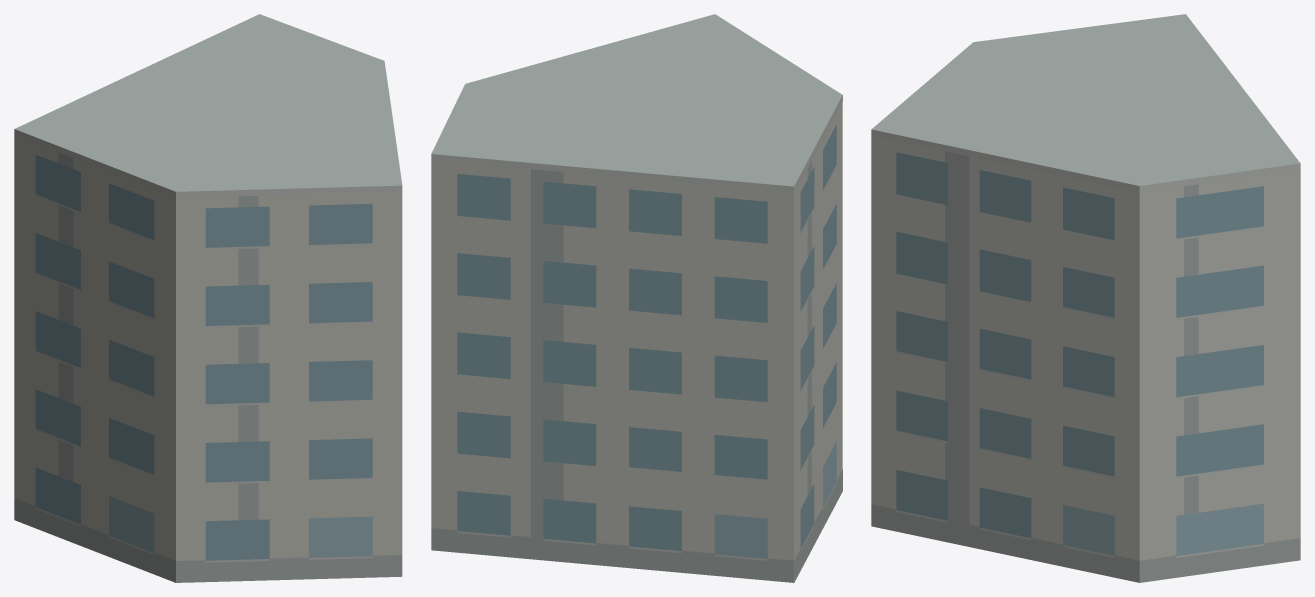
Rendered from residential-5a6bbb25-d028-49de-846f-203790a07bf5.glb.
3 views of the same model, side by side, from view 1: azimuth 30°, elevation 25°; view 2: azimuth 150°, elevation 25°; view 3: azimuth 270°, elevation 25° (orthographic).
Parts seen in each view (by area): view 1: residential-5a6bbb25-d028-49de-846f-203790a07bf5.tmp; view 2: residential-5a6bbb25-d028-49de-846f-203790a07bf5.tmp; view 3: residential-5a6bbb25-d028-49de-846f-203790a07bf5.tmp.
Boxes of the visible parts, <box> form: residential-5a6bbb25-d028-49de-846f-203790a07bf5.tmp: <box>14,14,402,582</box>; residential-5a6bbb25-d028-49de-846f-203790a07bf5.tmp: <box>431,14,842,582</box>; residential-5a6bbb25-d028-49de-846f-203790a07bf5.tmp: <box>871,14,1300,582</box>.
Size of the model in its own units: 13.95 by 15 by 14.72.
